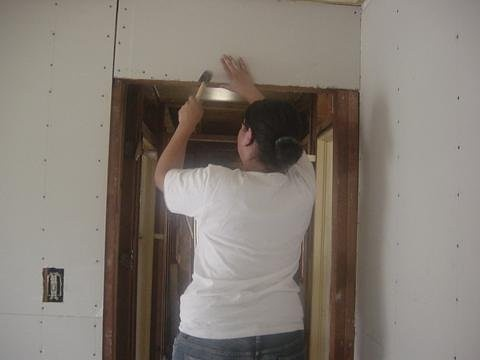hammer: (188, 68, 217, 114)
